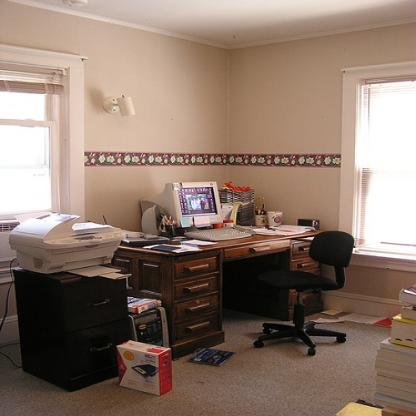chair: (251, 230, 354, 357)
tvmonitor: (138, 180, 223, 234)
